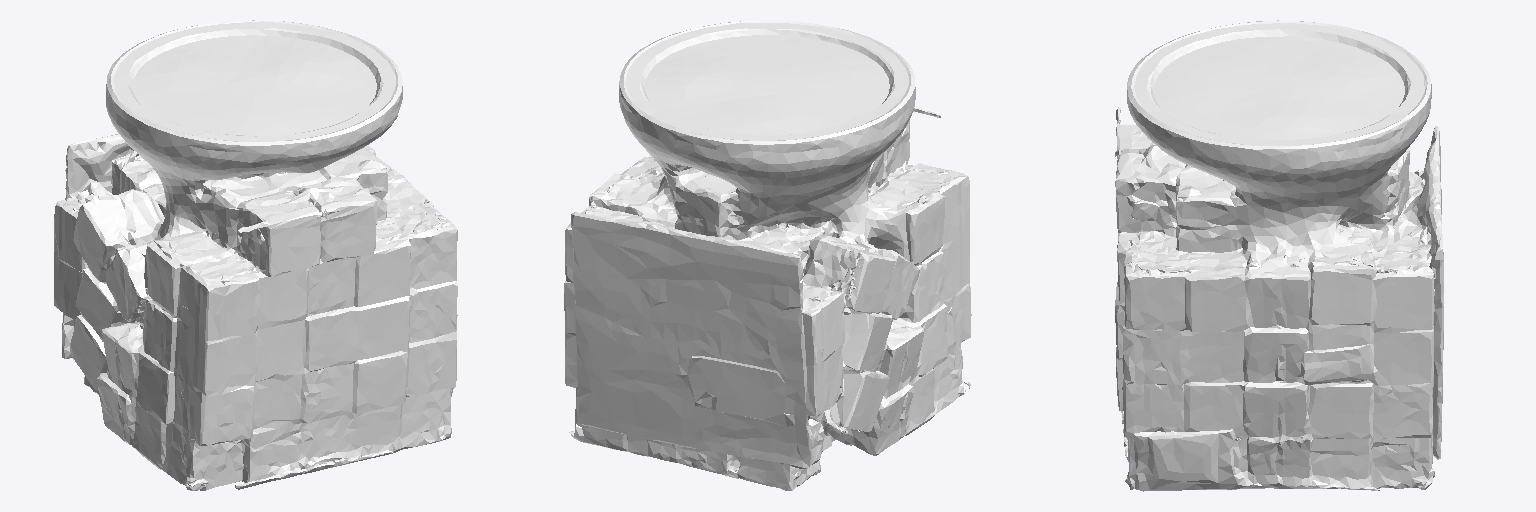
robot.urdf — 070-a_colored_wood_blocks:
<?xml version="1.0" ?>
<robot name="070-a_colored_wood_blocks">
    <link name="baseLink">
        <contact>
        <friction_anchor/>
        <lateral_friction value="1.5"/>
        <rolling_friction value="0.1"/>
        <spinning_friction value="0.1"/>
        <contact_cfm value="1e-5"/>
        <contact_erp value="0.8"/>
        </contact>
        <visual>
            <origin rpy="0 0 0" xyz="0 0 0"/>
            <geometry>
                <mesh filename="assets/objects/070-a_colored_wood_blocks/meshes/070-a_colored_wood_blocks_textured.obj" scale="1 1 1"/>
            </geometry>
            <material name="white">
                <color rgba="1 1 1 1"/>
            </material>
        </visual>
        <collision>
            <origin rpy="0 0 0" xyz="0 0 0"/>
            <geometry>
                <mesh filename="assets/objects/070-a_colored_wood_blocks/meshes/070-a_colored_wood_blocks_textured.obj" scale="1 1 1"/>
            </geometry>
        </collision>
        <inertial>
            <origin rpy="0 0 0" xyz="0 0 0"/>
            <mass value="1.0"/>
            <inertia ixx="0.1" ixy="0" ixz="0" iyy="0.1" iyz="0" izz="0.1"/>
        </inertial>
    </link>
</robot>

--- What the picture shows (computed from the rendered views, not written in the file) ---
The picture shows the robot from 3 angles, left to right: view 1: azimuth 30°, elevation 25°; view 2: azimuth 150°, elevation 25°; view 3: azimuth 270°, elevation 25°; orthographic projection.
Model 070-a_colored_wood_blocks with 1 links and 0 joints (none), rooted at baseLink, posed every joint at zero.
Visible links, largest first — view 1: baseLink; view 2: baseLink; view 3: baseLink.
Boxes of the visible links, left/top/right/bottom form: baseLink: left=54, top=20, right=457, bottom=490; baseLink: left=564, top=20, right=971, bottom=490; baseLink: left=1115, top=20, right=1444, bottom=491.
Bounding box of the posed robot: 0.1421 × 0.1412 × 0.1654 m (x, y, z).
1 mesh visuals loaded from 1 distinct referenced files (1 OBJ).
